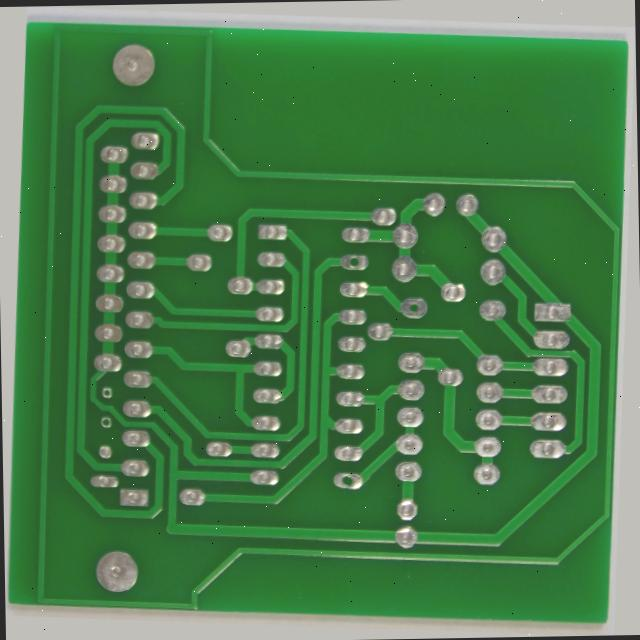missing_hole: (341, 245, 364, 267), (347, 474, 370, 496), (407, 291, 430, 311), (92, 431, 106, 444), (92, 401, 106, 414)
